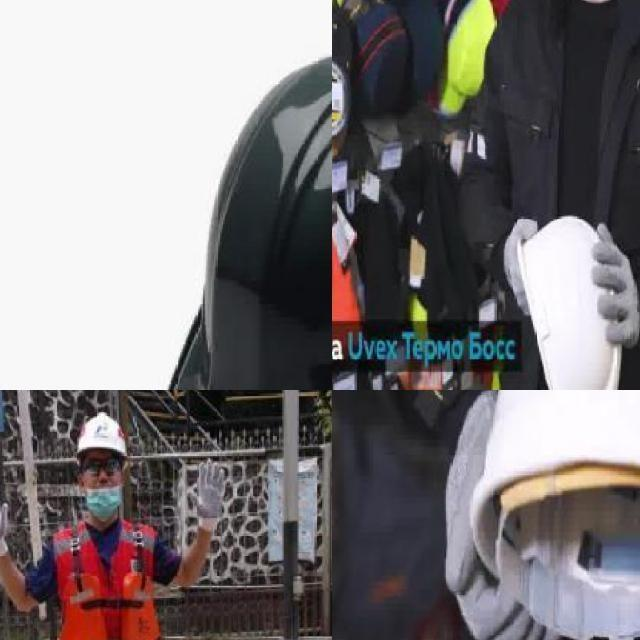apron: (442, 390, 564, 640), (589, 220, 638, 350), (500, 211, 543, 319), (188, 459, 226, 534), (0, 481, 9, 557)
